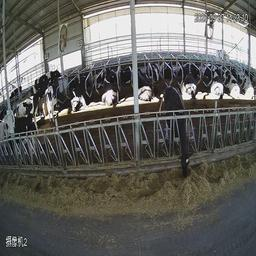cow: (164, 81, 196, 191), (3, 112, 40, 162), (69, 67, 93, 119), (205, 57, 230, 106), (180, 58, 208, 99), (43, 72, 63, 127), (17, 83, 41, 127), (101, 67, 125, 108), (137, 59, 157, 107), (221, 64, 242, 105), (239, 61, 253, 107), (214, 44, 238, 68)
